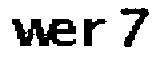7: (117, 6, 150, 51)
e: (49, 15, 76, 50)
r: (83, 17, 107, 51)
w: (8, 15, 54, 52)
